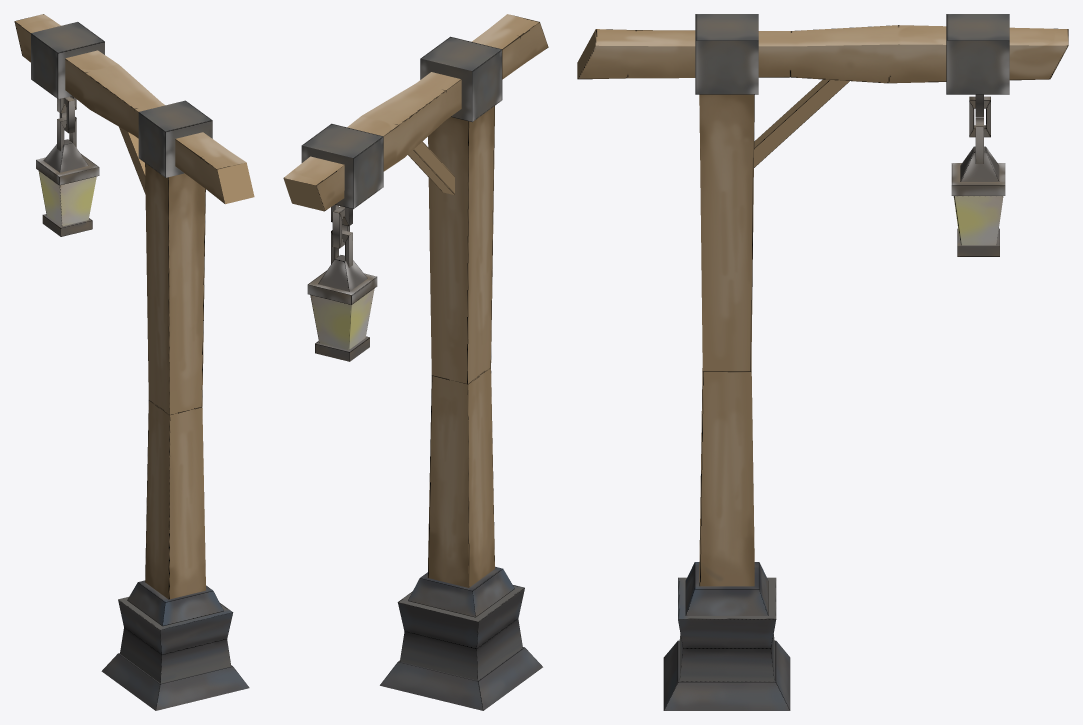
Rendered from 가로등_마을.fbx.
3 views of the same model, side by side, from view 1: azimuth 30°, elevation 25°; view 2: azimuth 150°, elevation 25°; view 3: azimuth 270°, elevation 25° (orthographic). The views are drawn at different scales.
Visible parts, largest first — view 1: street_lamp_in; view 2: street_lamp_in; view 3: street_lamp_in.
Part boxes in pixels (x1=…): street_lamp_in: x1=14, y1=14, x2=254, y2=710; street_lamp_in: x1=283, y1=14, x2=548, y2=710; street_lamp_in: x1=577, y1=14, x2=1068, y2=710.
Size of the model in its own units: 40 by 229 by 155.
Materials: 1 (1 with a texture image).
